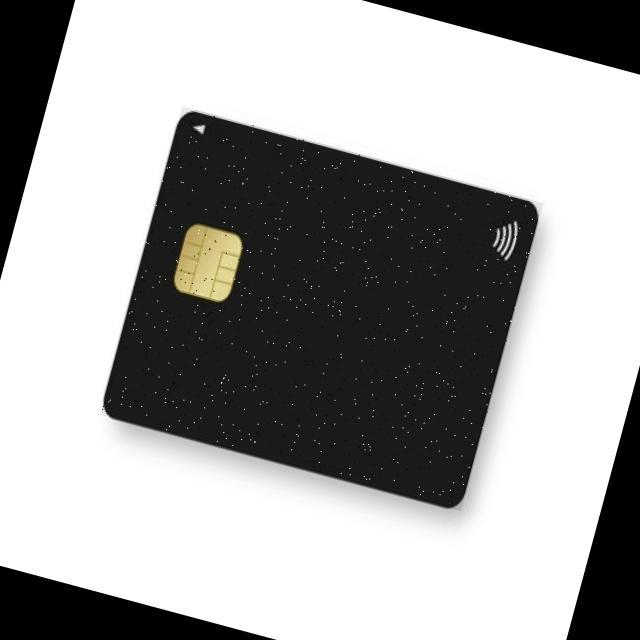payment_card: (101, 108, 541, 509)
